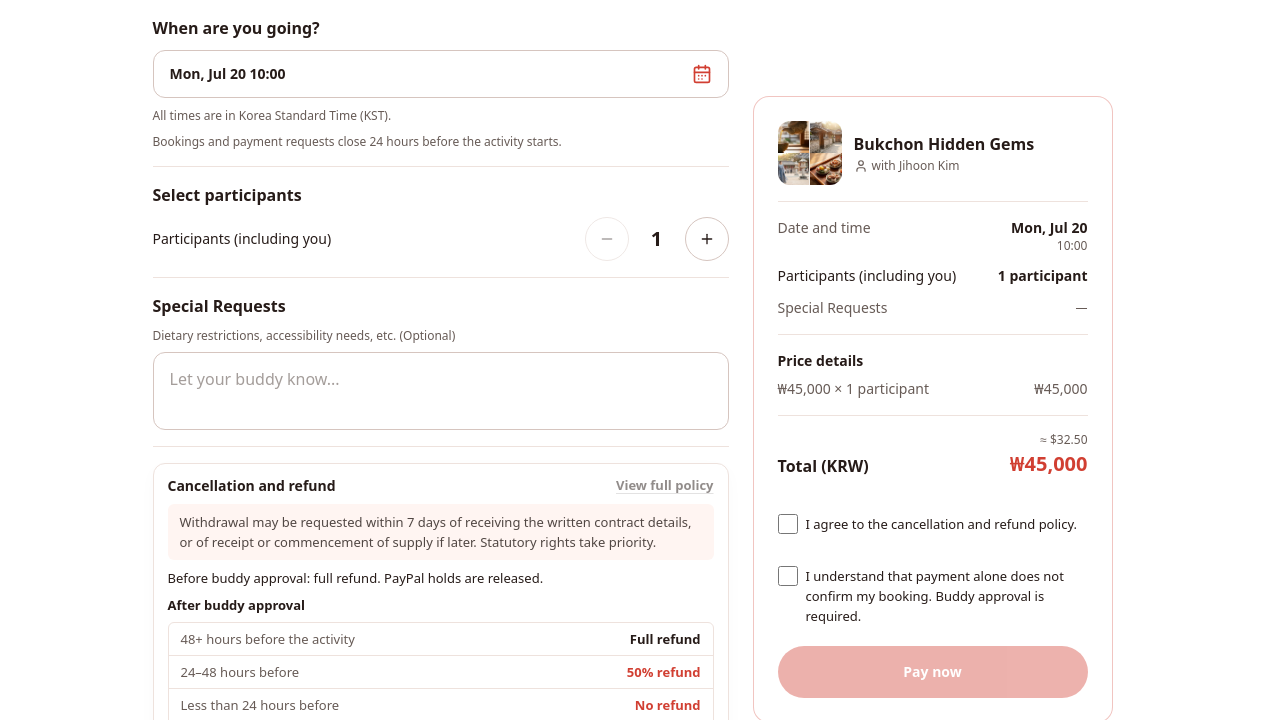
Test: BookingForm › rechecks a stale schedule before starting TOSS and keeps form input on rejection
The image size is (1280, 720).
In the text box with placeholder "Let your buddy know...": (440, 391) x1=152 y1=352 x2=728 y2=430, type "Keep this request"
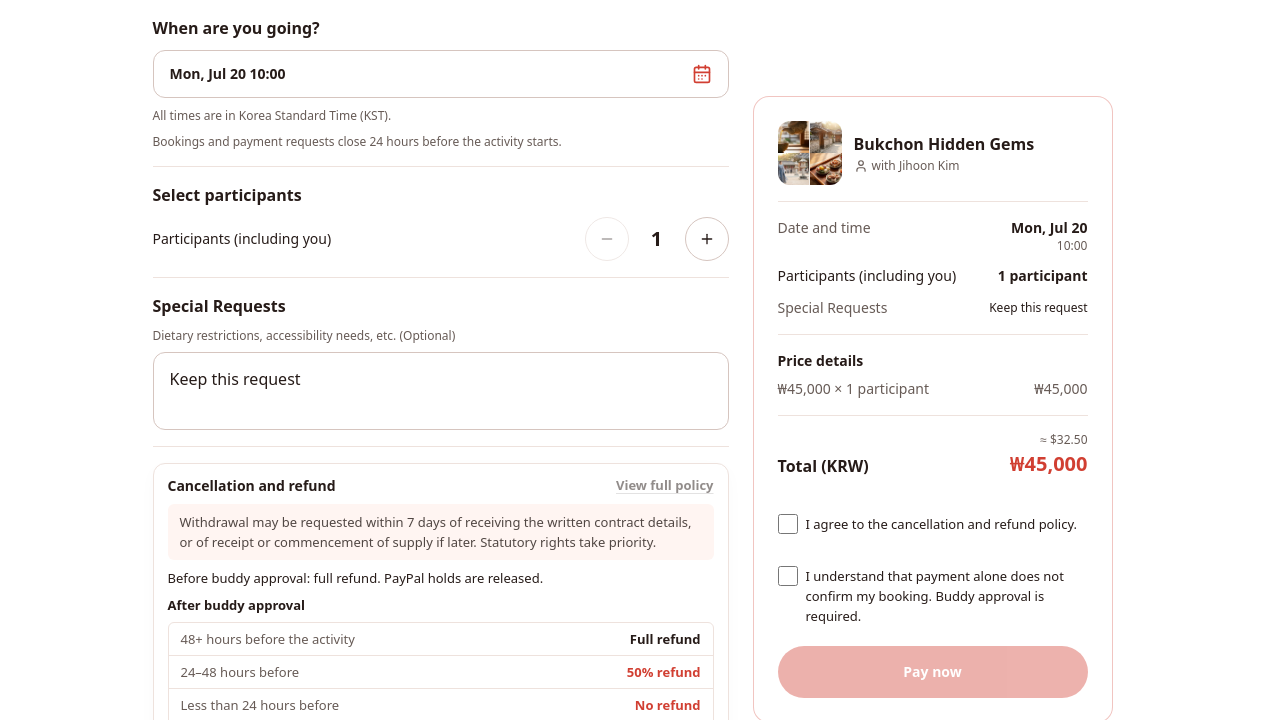
Click the 2nd checkbox: (788, 576) x1=778 y1=566 x2=798 y2=586
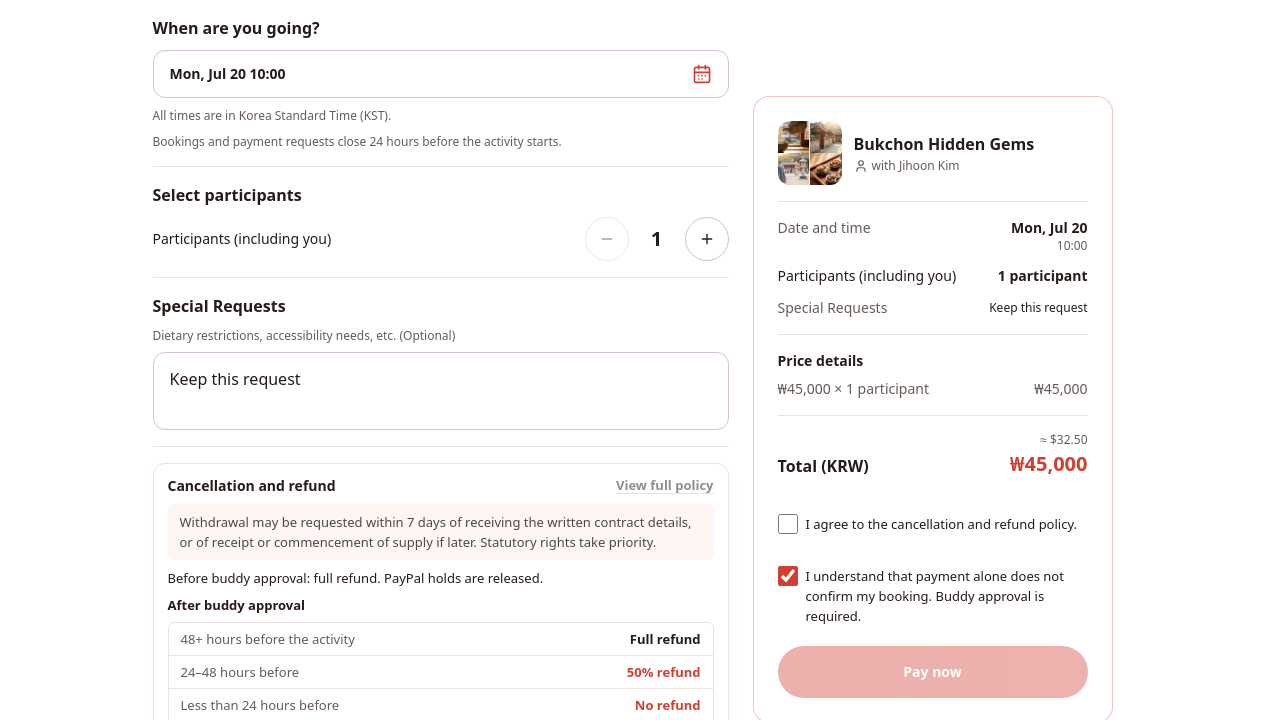
Click the checkbox labelled "I agree to the cancellation and refund policy.": (788, 524) x1=778 y1=514 x2=798 y2=534
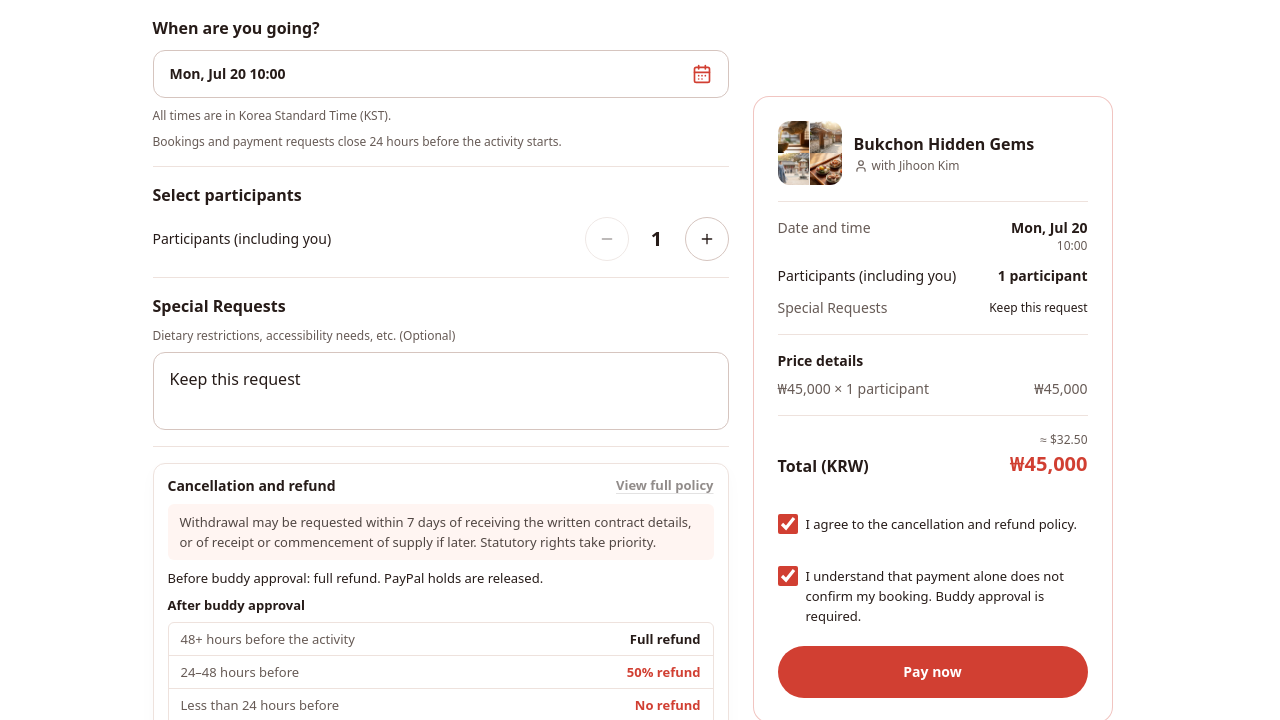
expect the button "Pay now" is enabled: met
Click the button "Pay now": (932, 672) x1=778 y1=646 x2=1088 y2=698
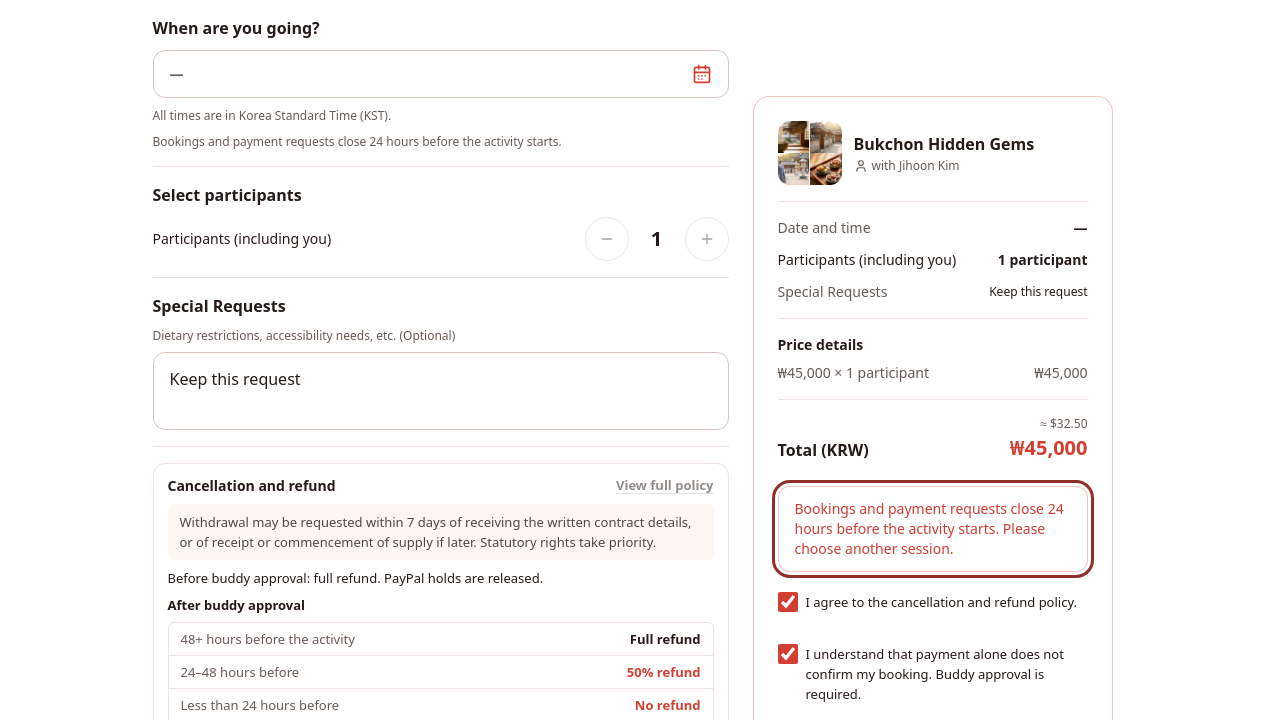
expect the 2nd message shows "24 hours": met, box x1=794 y1=499 x2=1064 y2=558
expect the button with test id "date-select-box" reads "—": met, box x1=152 y1=50 x2=728 y2=98
